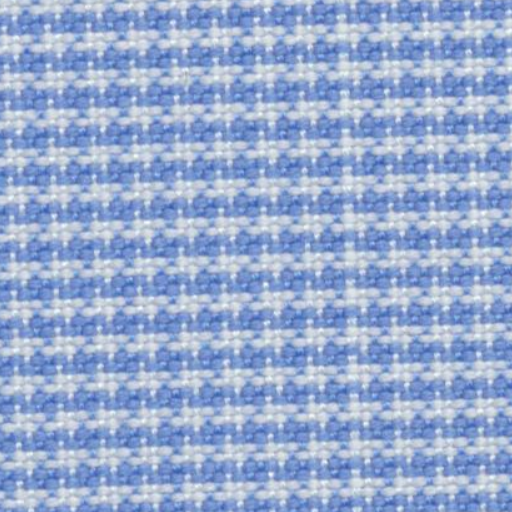TuoSha: (312, 10, 388, 494)
